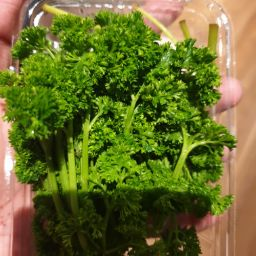Parsley: (12, 4, 225, 224), (9, 108, 178, 256), (2, 66, 207, 168)
